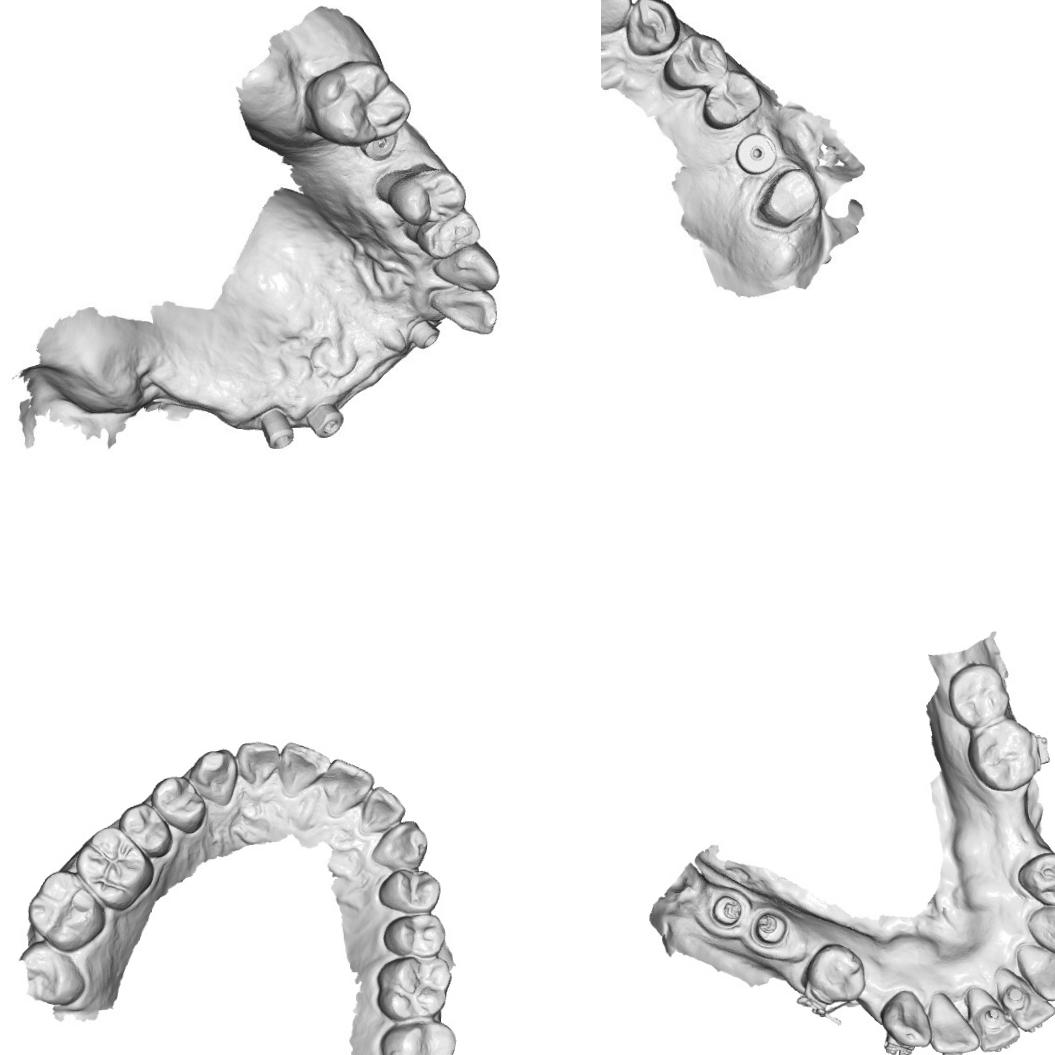abutment: (702, 889, 749, 932), (752, 908, 791, 954)
canine: (428, 240, 502, 294), (368, 818, 431, 872), (878, 989, 932, 1050), (187, 746, 240, 808), (622, 0, 676, 54), (1026, 906, 1055, 960)
crown: (754, 167, 822, 231)
implant: (735, 132, 775, 179), (256, 406, 296, 452), (304, 400, 346, 441), (361, 130, 402, 166)
incisor: (427, 284, 500, 338), (320, 754, 378, 818), (997, 970, 1055, 1033), (276, 739, 334, 799), (928, 989, 979, 1055), (970, 990, 1018, 1052), (357, 784, 408, 836), (1018, 938, 1055, 1006), (234, 739, 282, 790), (601, 0, 629, 34)
molar: (301, 56, 415, 150), (24, 867, 109, 955), (74, 824, 156, 914), (964, 717, 1037, 794), (374, 953, 454, 1022), (17, 939, 88, 1008), (945, 660, 1011, 730), (378, 1017, 461, 1055)
premolar: (387, 164, 469, 230), (804, 941, 870, 1007), (658, 34, 728, 93), (148, 774, 208, 837), (117, 800, 174, 860), (418, 209, 484, 259), (381, 910, 447, 960), (376, 866, 442, 915), (705, 72, 758, 123), (1014, 847, 1055, 909)
